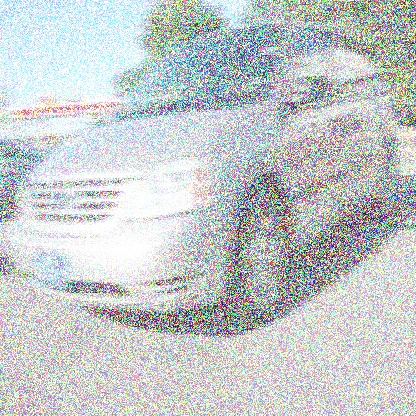Vehicle: (14, 24, 402, 327)
